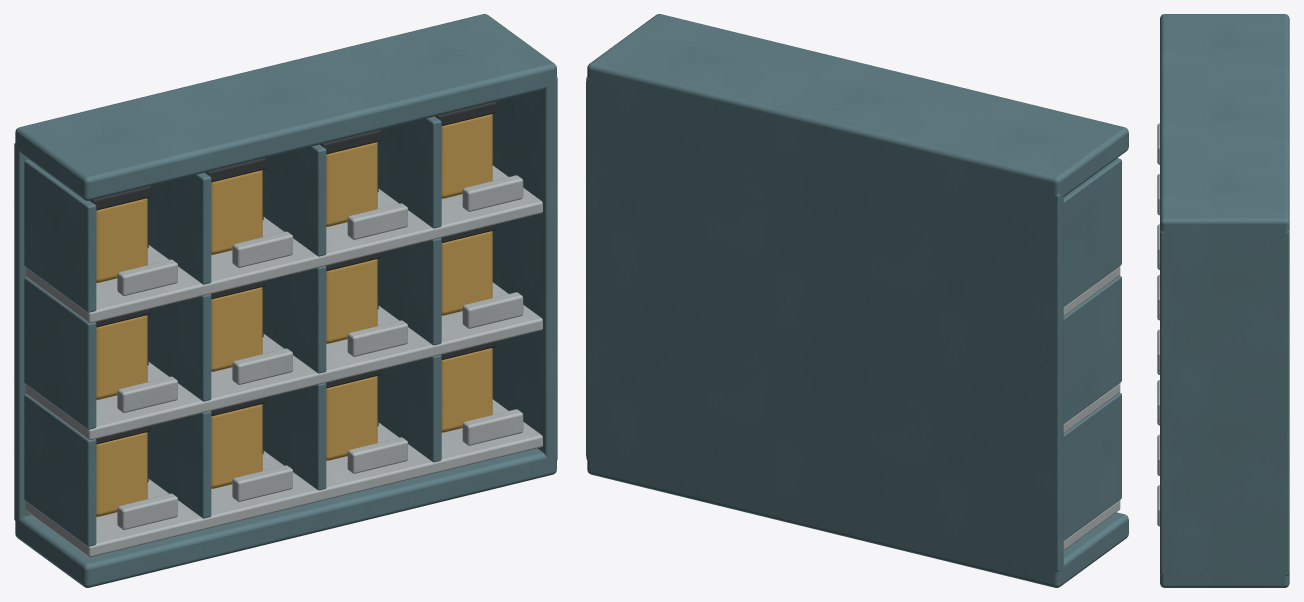
Rendered from gorgehold-survivor-gallery-and-operations-battery-exch-a60c2389__32857.glb.
3 views of the same model, side by side, from view 1: azimuth 30°, elevation 25°; view 2: azimuth 150°, elevation 25°; view 3: azimuth 270°, elevation 25° (orthographic). The views are drawn at different scales.
Parts seen in each view (by area): view 1: battery-exchange-cubby-bank; view 2: battery-exchange-cubby-bank; view 3: battery-exchange-cubby-bank.
Part boxes in pixels (x1,y1,x2,y2): battery-exchange-cubby-bank: (14, 14, 557, 587); battery-exchange-cubby-bank: (586, 14, 1128, 587); battery-exchange-cubby-bank: (1157, 14, 1289, 587).
Bounding box in the file's own units: 1.44 × 1.19 × 0.3875.
4 materials, 2 textured.
